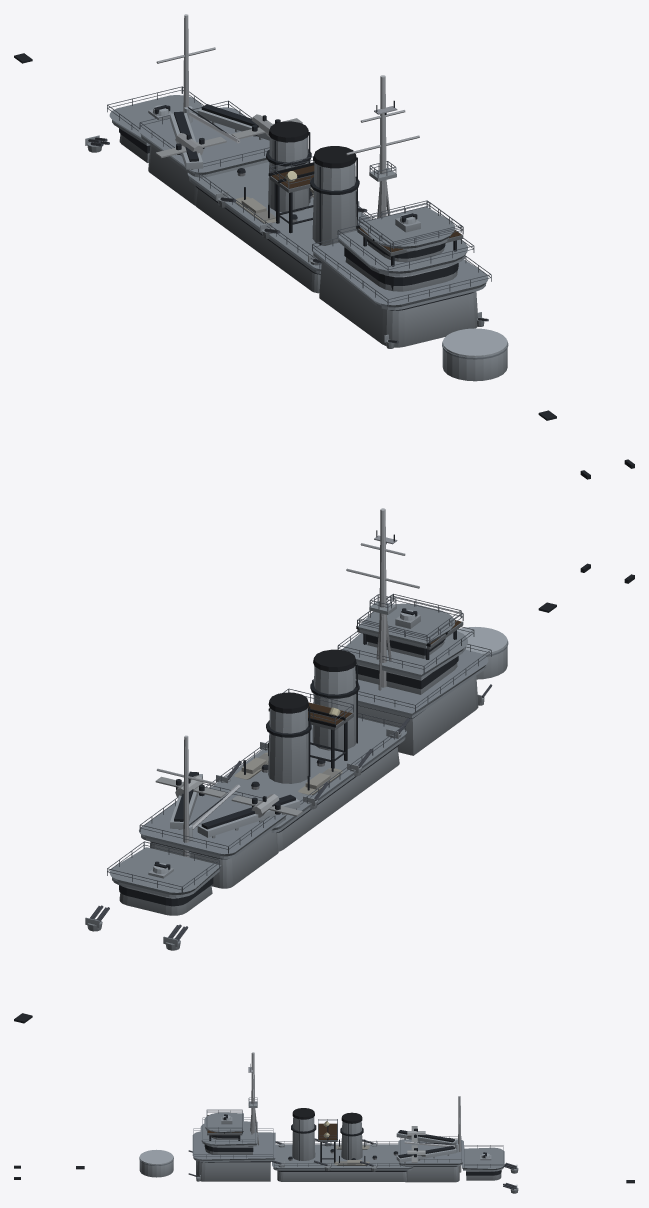
File: us_ca_super.glb
3 views of the same model, one above another, from view 1: azimuth 30°, elevation 25°; view 2: azimuth 150°, elevation 25°; view 3: azimuth 270°, elevation 25° (orthographic). The views are drawn at different scales.
Visible parts, largest first — view 1: super_us_ca; view 2: super_us_ca; view 3: super_us_ca.
Part boxes in pixels (box(x1,y1,x2,y2)): super_us_ca: box(14, 14, 634, 479); super_us_ca: box(14, 508, 634, 1023); super_us_ca: box(14, 1052, 634, 1193).
Bounding box in the file's own units: 19.49 × 32.48 × 141.
